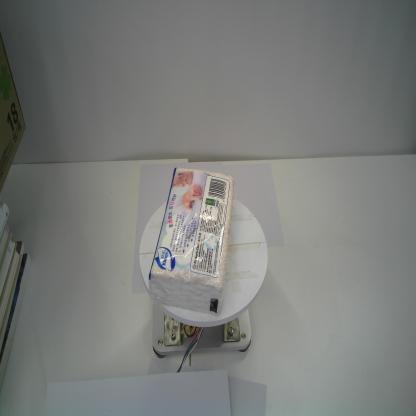Tissue: (147, 166, 236, 318)
